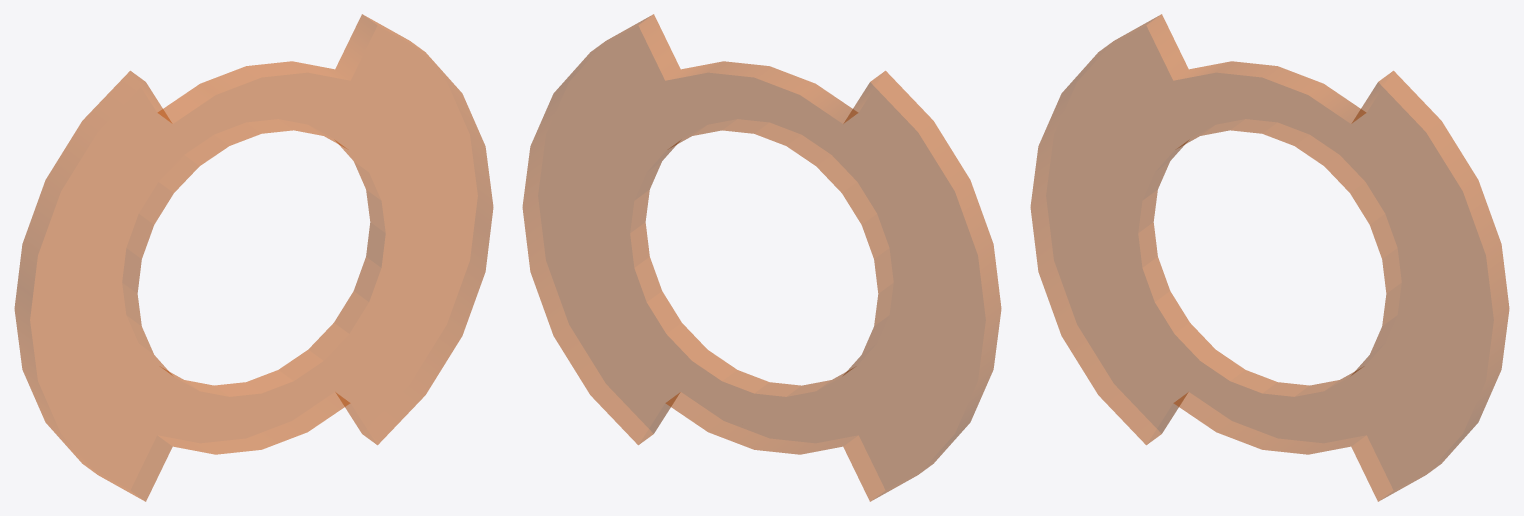
The model's file is obstacle_B.fbx.
The picture shows the model from 3 angles, left to right: view 1: azimuth 30°, elevation 25°; view 2: azimuth 150°, elevation 25°; view 3: azimuth 330°, elevation 25°; orthographic projection.
Parts seen in each view (by area): view 1: pCylinder10; view 2: pCylinder10; view 3: pCylinder10.
Part boxes in pixels (<box>): pCylinder10: <box>14,14,493,501</box>; pCylinder10: <box>522,14,1001,501</box>; pCylinder10: <box>1030,14,1509,501</box>.
Size of the model in its own units: 6.84 by 5.92 by 0.3986.
